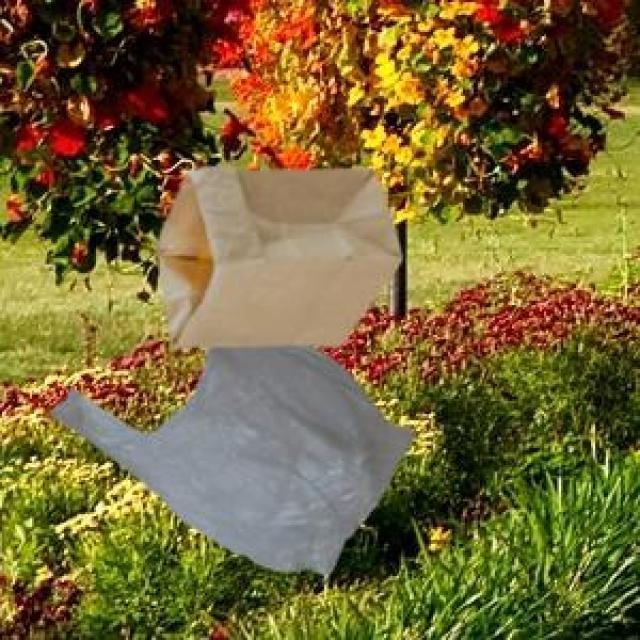paper: (152, 162, 397, 344)
